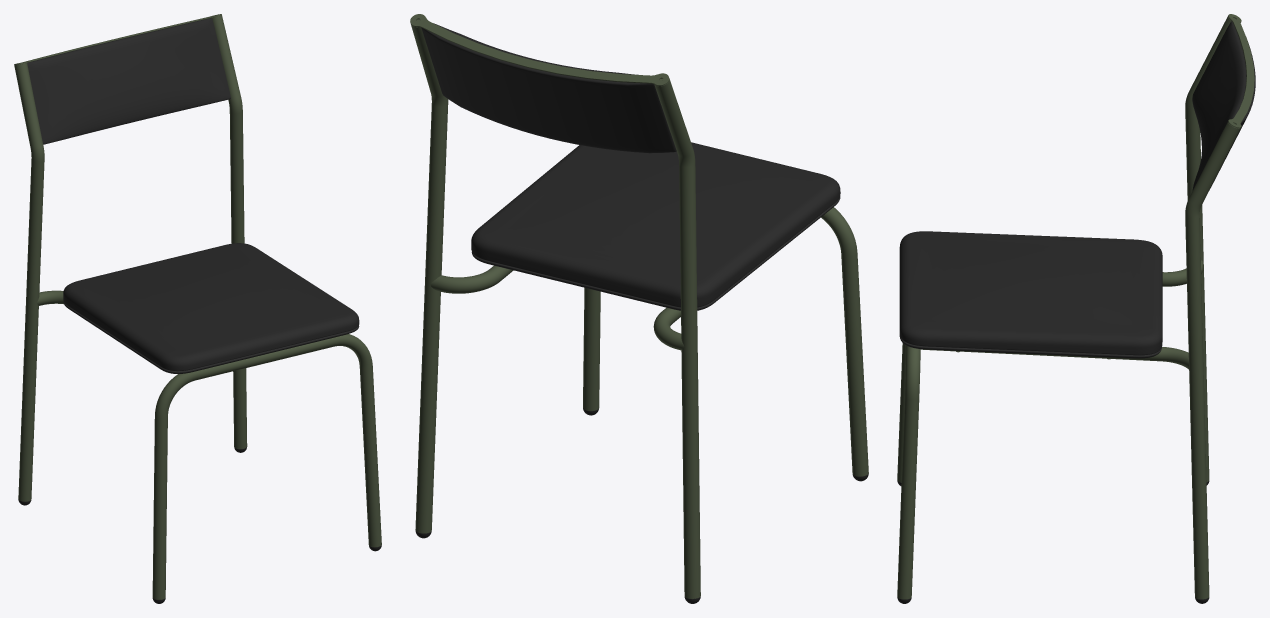
Rendered from chair-ugol.glb.
The picture shows the model from 3 angles, left to right: view 1: azimuth 30°, elevation 25°; view 2: azimuth 150°, elevation 25°; view 3: azimuth 270°, elevation 25°; orthographic projection. The views are drawn at different scales.
Parts seen in each view (by area): view 1: rb_chair_ugol; view 2: rb_chair_ugol; view 3: rb_chair_ugol.
Boxes of the visible parts, <box> form: rb_chair_ugol: <box>14,14,381,603</box>; rb_chair_ugol: <box>410,14,868,603</box>; rb_chair_ugol: <box>897,14,1255,603</box>.
Bounding box in the file's own units: 0.4396 × 0.7955 × 0.542.
